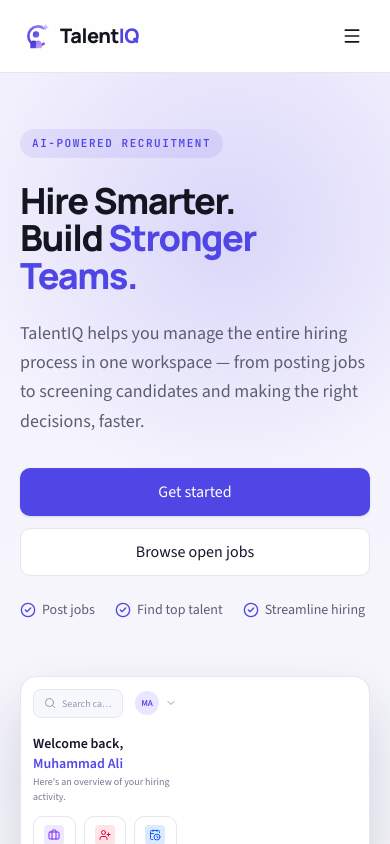
Test case: LandingPage › 8. the mobile menu toggle opens an accessible navigation panel
The image size is (390, 844).
Click the button named "Open menu".
click(352, 36)  # box [334,18,370,54]
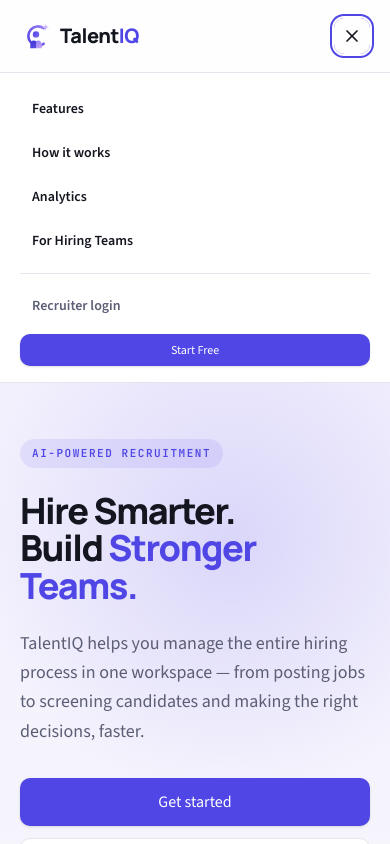
Expected: the button named "Open menu" is expanded, [334,18,370,54]
Expected: the navigation bar with id "landing-mobile-menu" is shown, [0,72,389,382]
